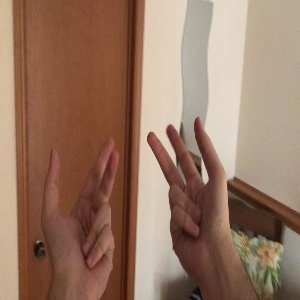hand: (148, 117, 231, 259), (41, 137, 120, 285)
